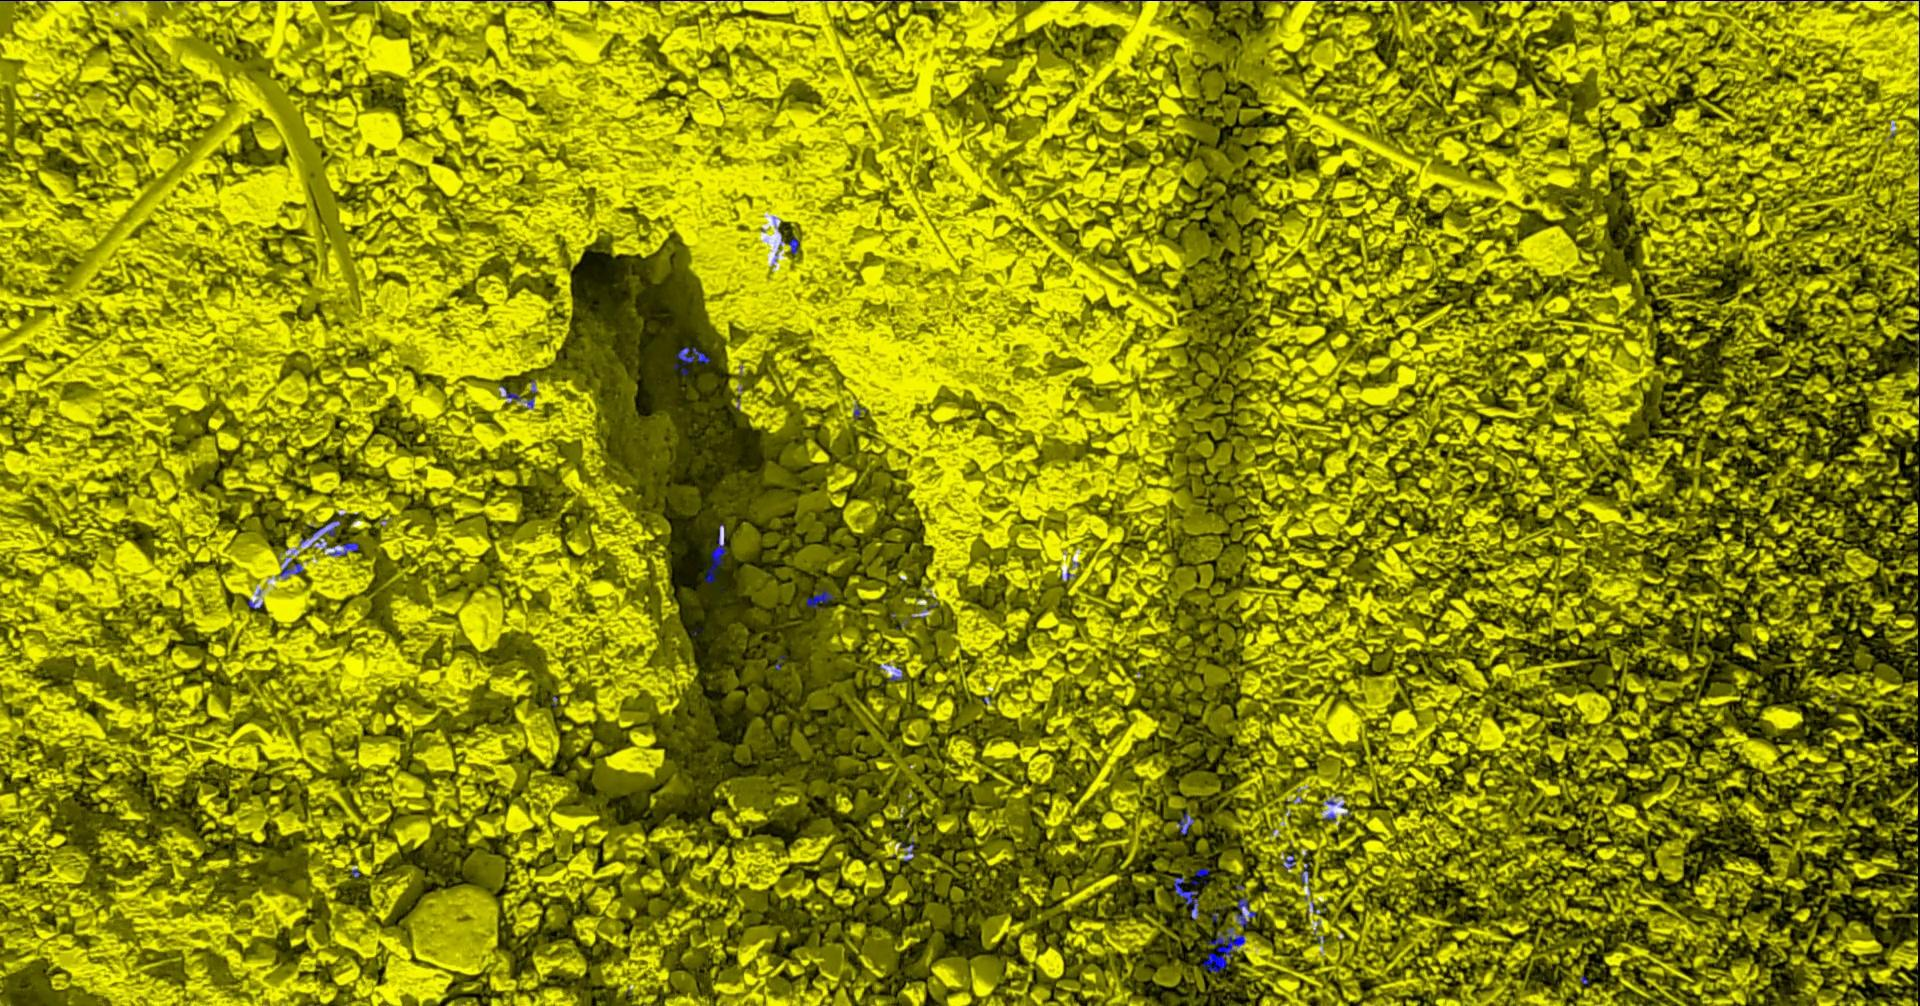ant: (1203, 926, 1244, 972), (703, 525, 725, 583), (673, 345, 709, 375), (1172, 876, 1197, 916), (1236, 897, 1256, 927), (805, 589, 833, 607), (312, 520, 340, 536), (279, 556, 302, 575), (328, 542, 358, 555), (1177, 810, 1192, 835), (899, 840, 914, 861), (1190, 868, 1208, 884), (1299, 861, 1309, 884), (1283, 854, 1294, 868), (789, 238, 797, 253)
